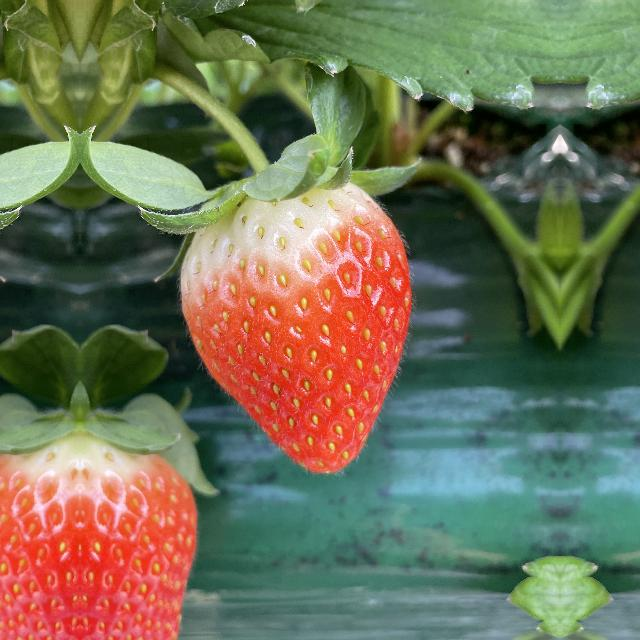Health_100: (174, 176, 420, 476), (80, 410, 200, 640), (0, 410, 80, 639)
